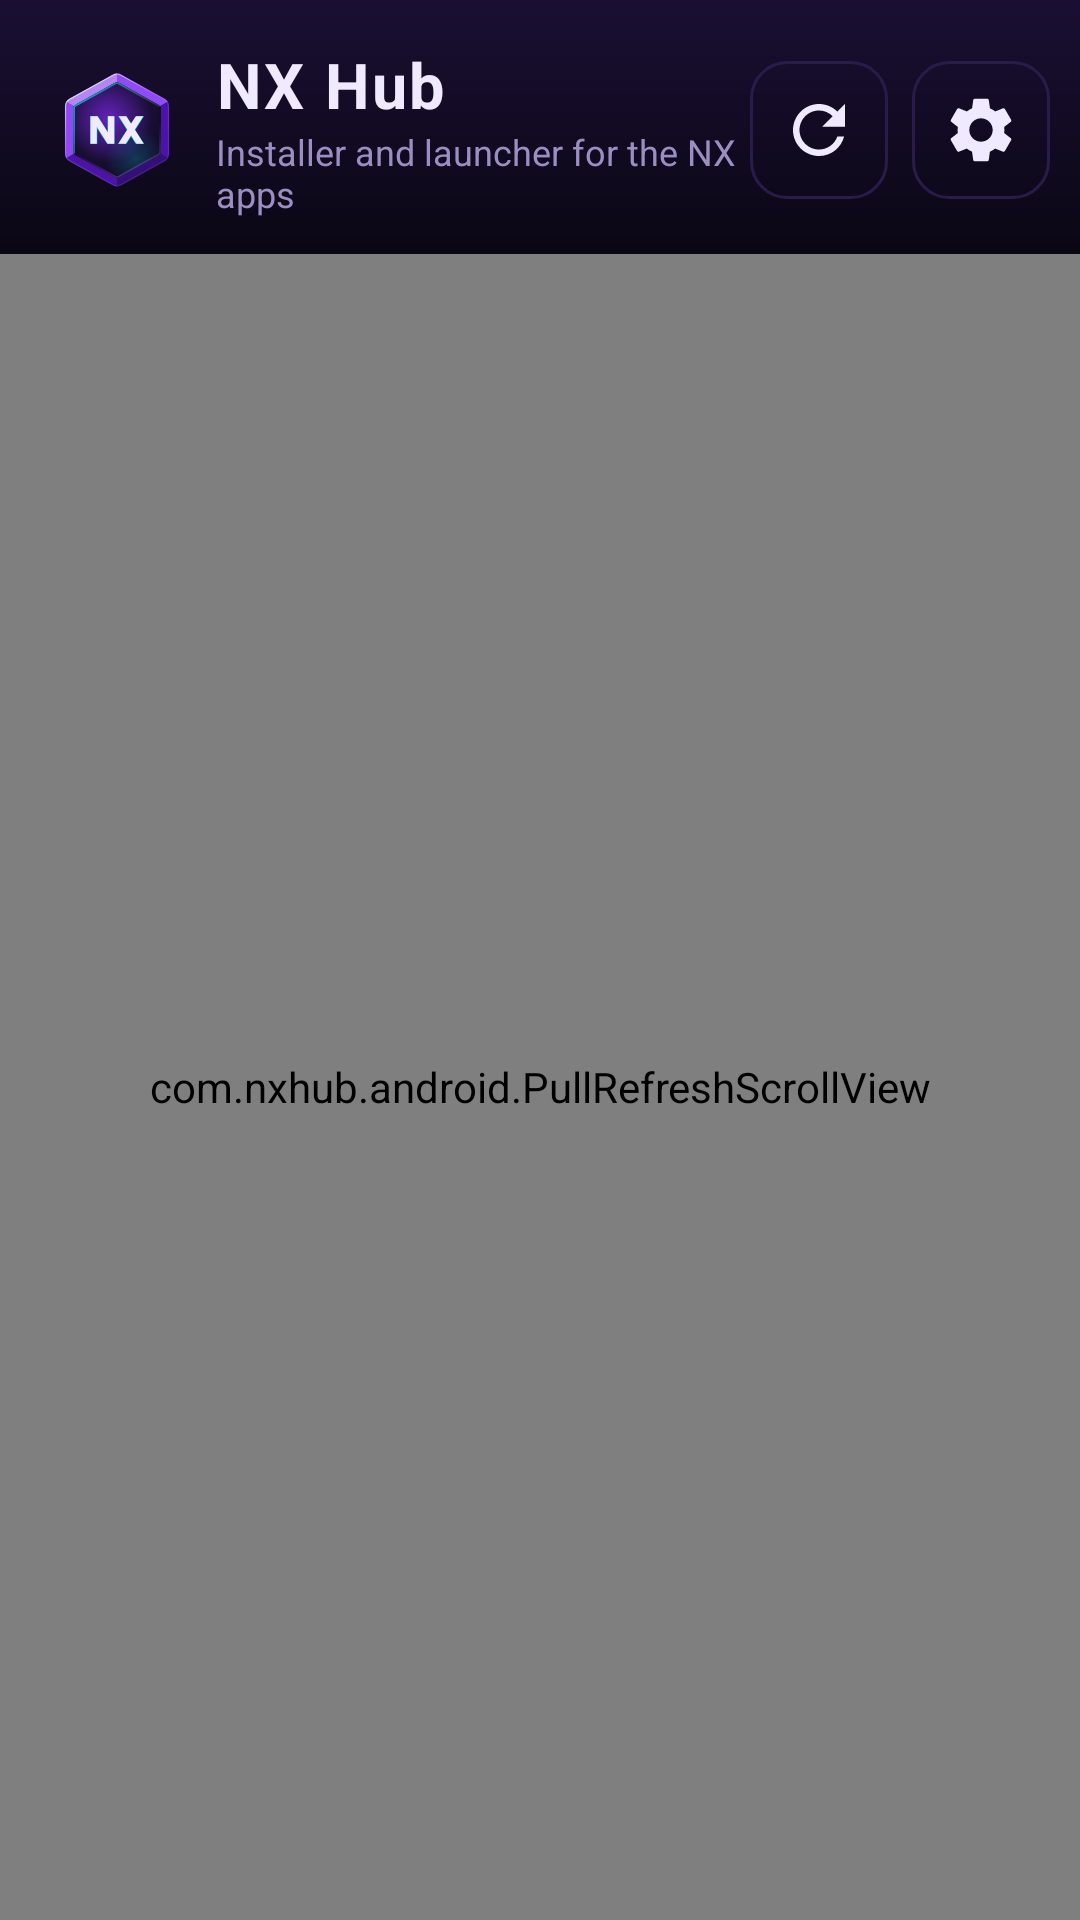

Icons on this 1080 × 1920 Android screen, each with its box as (x1, y1, x2, y2):
Settings: (912, 61, 1050, 199)
